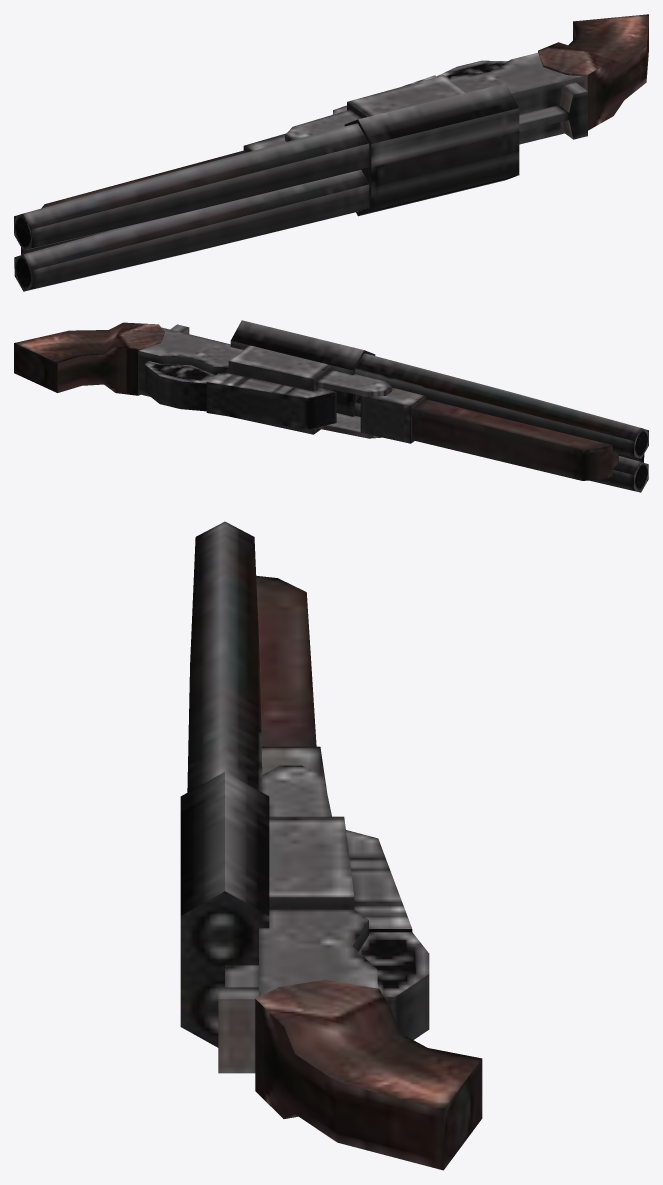
Rendered from weapon-shotgun.glb.
3 views of the same model, one above another, from view 1: azimuth 30°, elevation 25°; view 2: azimuth 150°, elevation 25°; view 3: azimuth 270°, elevation 25° (orthographic). The views are drawn at different scales.
Parts seen in each view (by area): view 1: weapon; view 2: weapon; view 3: weapon.
Boxes of the visible parts, x1,y1,x2,y2 form: weapon: (14, 14, 648, 291); weapon: (14, 320, 648, 492); weapon: (180, 521, 482, 1170).
Size of the model in its own units: 0.6203 by 0.083 by 0.1413.
1 material, 1 textured.
